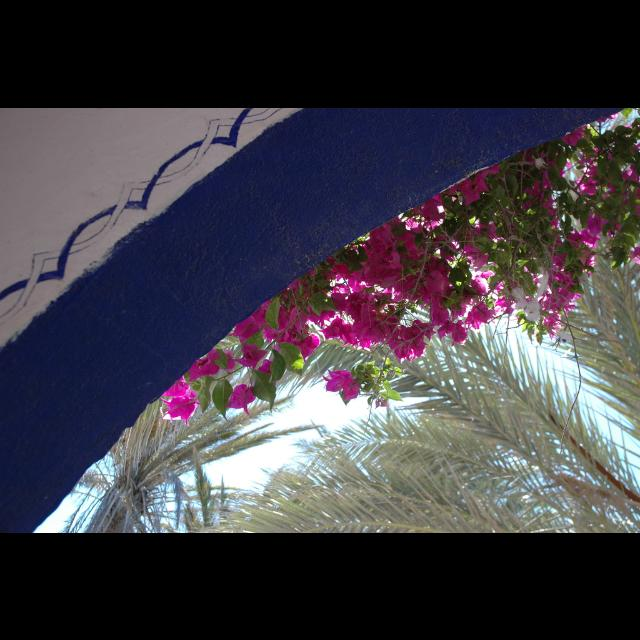Flower: (191, 107, 639, 409), (158, 383, 198, 432)
